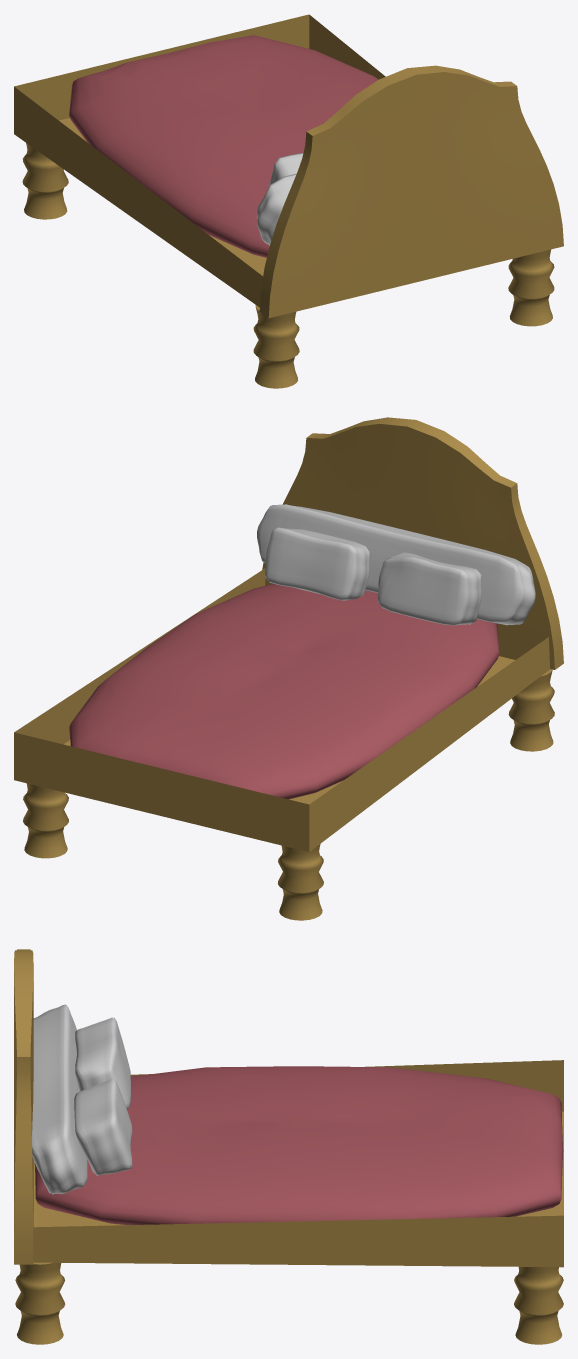
File: bed.fbx
The picture shows the model from 3 angles, top to bottom: view 1: azimuth 30°, elevation 25°; view 2: azimuth 150°, elevation 25°; view 3: azimuth 270°, elevation 25°; orthographic projection. The views are drawn at different scales.
Visible parts, largest first — view 1: pPlane2; view 2: pPlane2; view 3: pPlane2.
Part boxes in pixels (x1,y1,x2,y2): pPlane2: (14, 14, 563, 388); pPlane2: (14, 417, 563, 920); pPlane2: (14, 949, 563, 1344).
Bounding box in the file's own units: 7.06 × 6.45 × 10.54.
